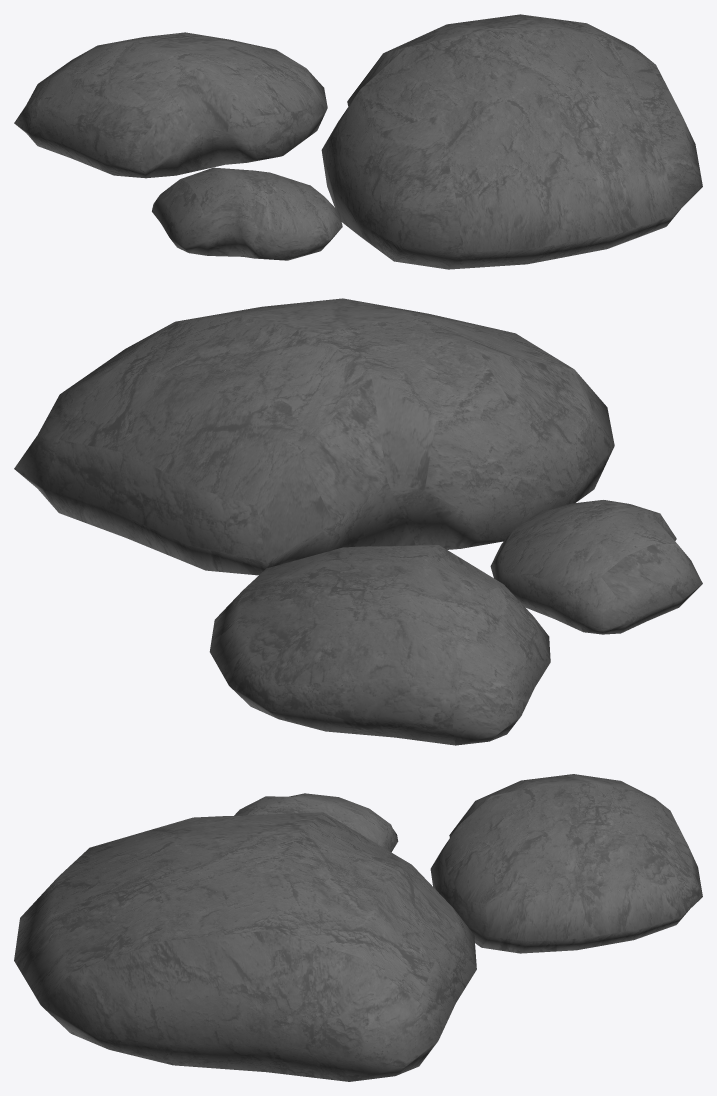
Rendered from Rock.fbx.
3 renders of one model, top to bottom at view 1: azimuth 30°, elevation 25°; view 2: azimuth 150°, elevation 25°; view 3: azimuth 270°, elevation 25°, orthographic. The views are drawn at different scales.
Parts seen in each view (by area): view 1: pCube4; view 2: pCube4; view 3: pCube4.
Boxes of the visible parts, left/top/right/bottom form: pCube4: left=14, top=14, right=702, bottom=269; pCube4: left=14, top=298, right=702, bottom=745; pCube4: left=14, top=774, right=702, bottom=1081.
Bounding box in the file's own units: 1233 × 353 × 1335.
1 material, 1 textured.
